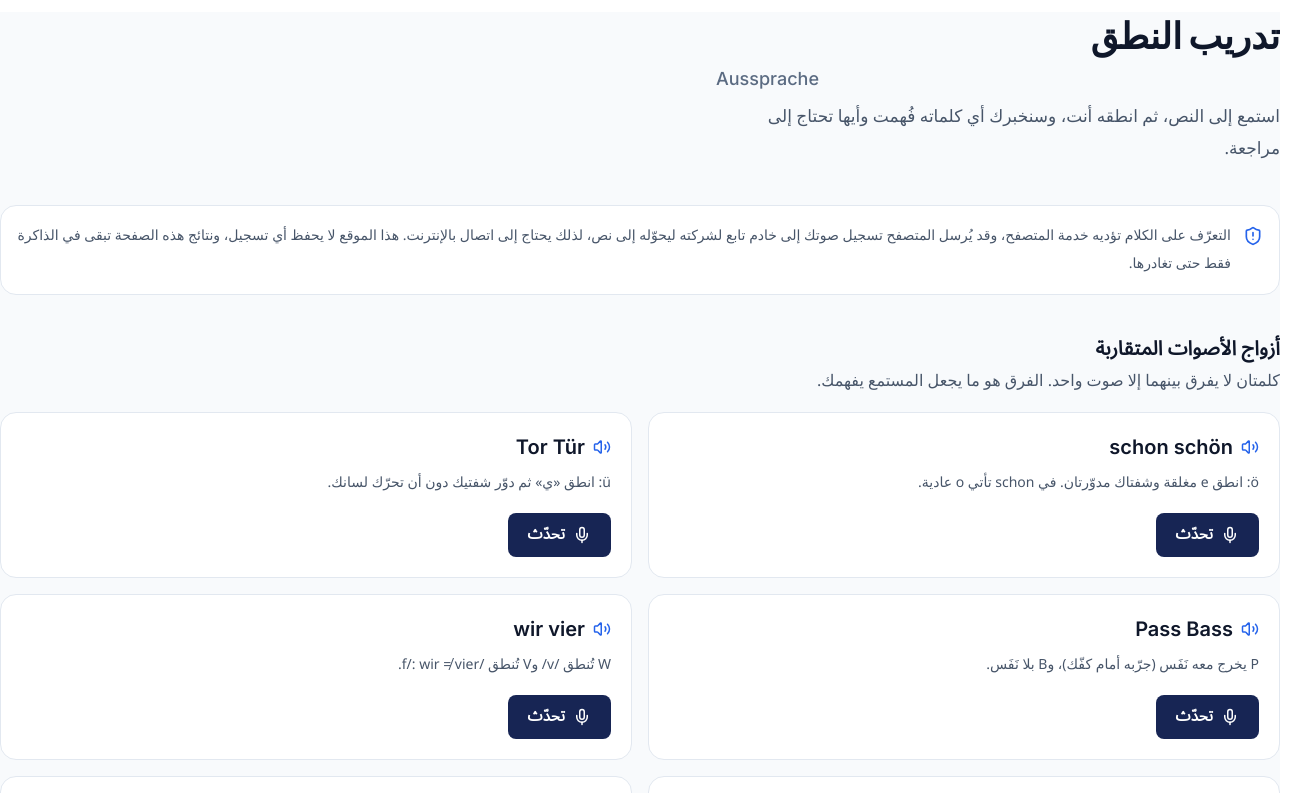
Scenario: PronunciationPage › judges the reading closest to what was asked, not only the first guess
The image size is (1292, 793).
Click the 1st button "تحدّث" at (559, 535), box [508, 513, 611, 557]
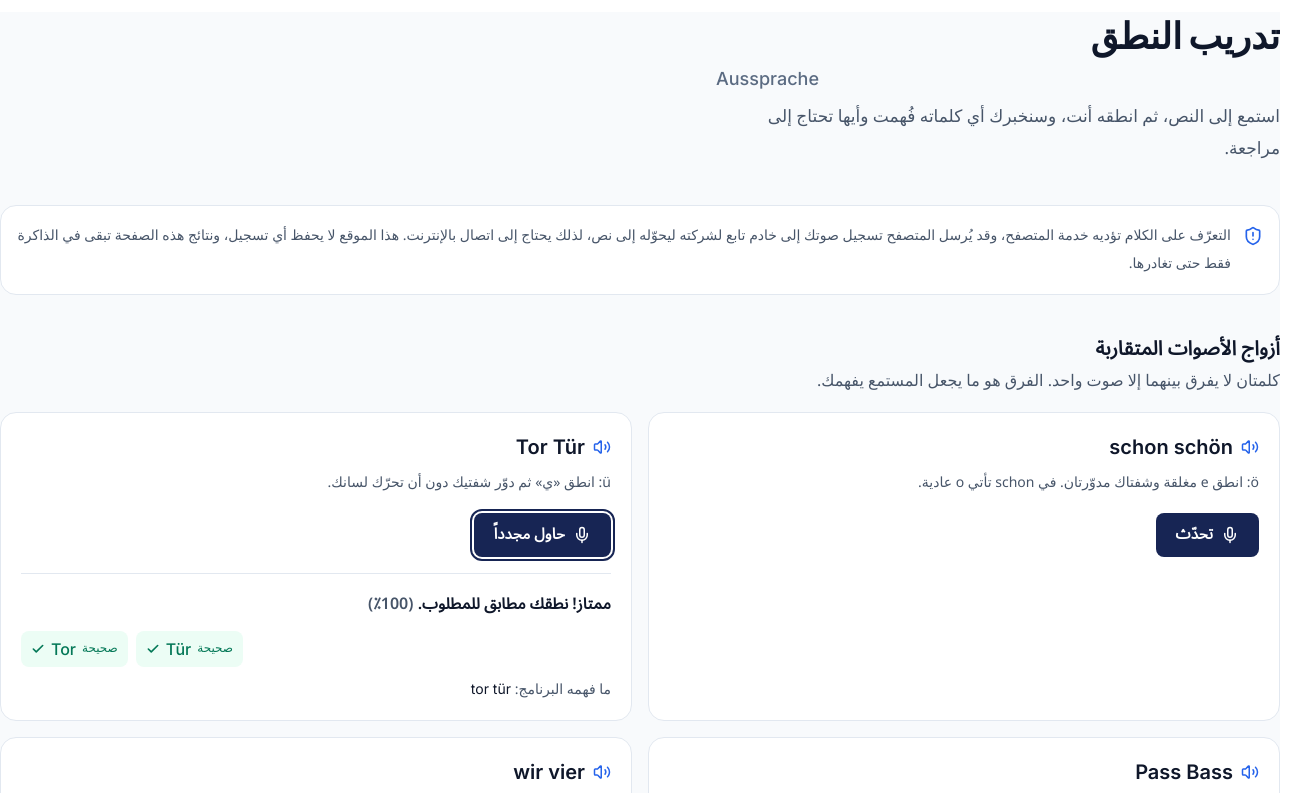
Expected: the text "ممتاز! نطقك مطابق للمطلوب. (100٪)" is shown, [368, 587, 611, 621]
